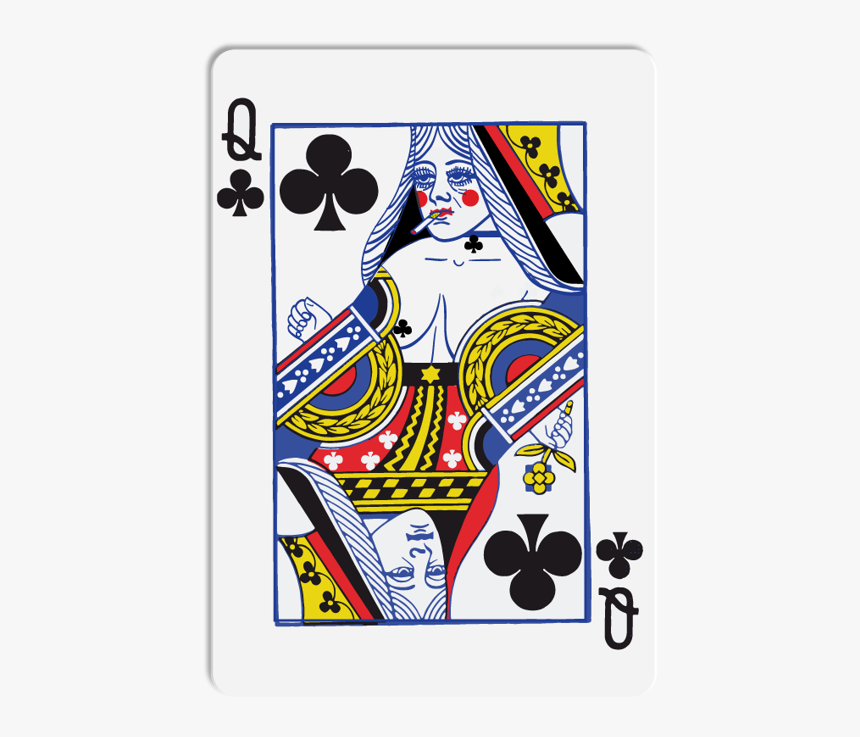queen of clubs: (208, 49, 652, 686)
